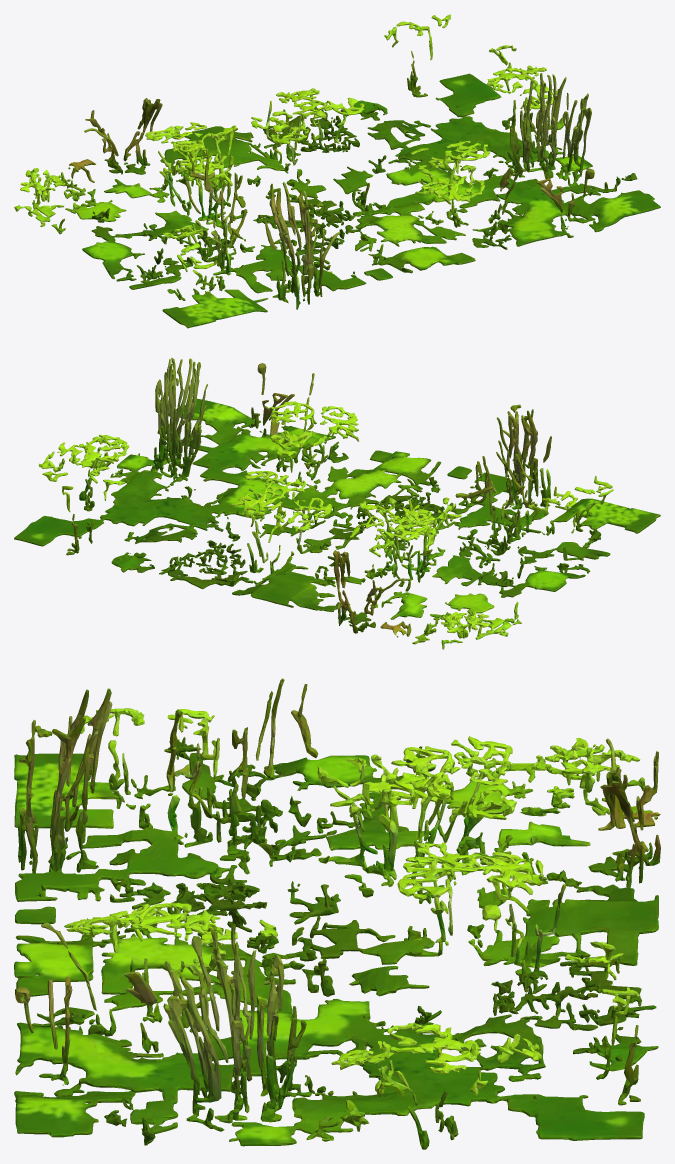
Rendered from swamp_cattail_clump_01.glb.
The picture shows the model from 3 angles, top to bottom: view 1: azimuth 30°, elevation 25°; view 2: azimuth 150°, elevation 25°; view 3: azimuth 270°, elevation 25°; orthographic projection. The views are drawn at different scales.
Parts seen in each view (by area): view 1: geometry_0; view 2: geometry_0; view 3: geometry_0.
Boxes of the visible parts, <box> form: geometry_0: <box>14,14,660,328</box>; geometry_0: <box>14,357,660,649</box>; geometry_0: <box>14,678,660,1149</box>.
Bounding box in the file's own units: 1 × 0.2212 × 0.6847.
1 material, 1 textured.
